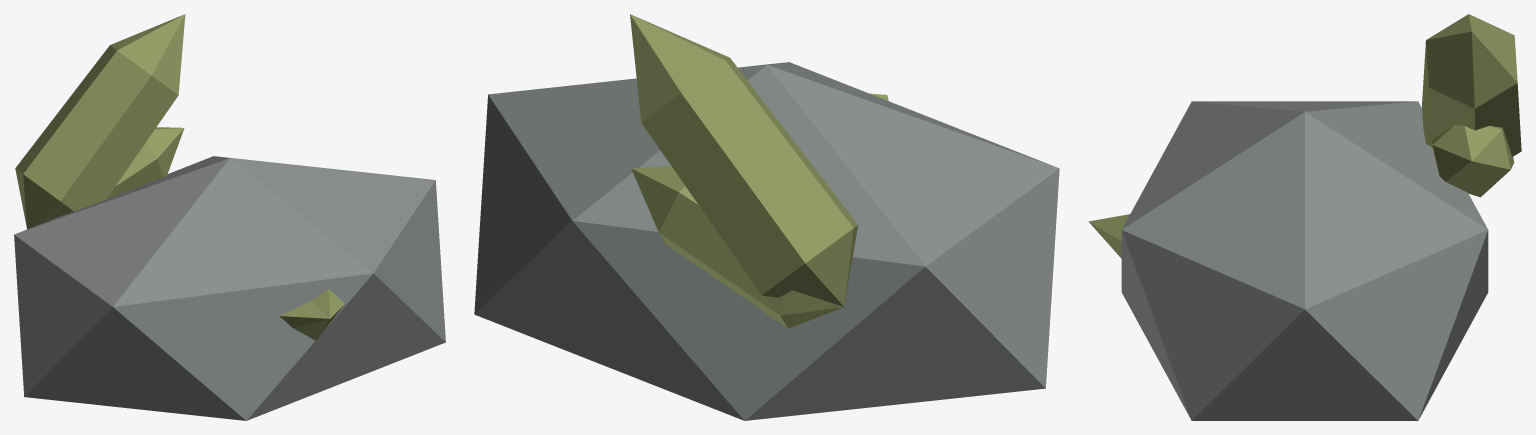
File: v2_uranium_rock.glb
3 renders of one model, left to right at view 1: azimuth 30°, elevation 25°; view 2: azimuth 150°, elevation 25°; view 3: azimuth 270°, elevation 25°, orthographic. The views are drawn at different scales.
Visible parts, largest first — view 1: Icosphere; view 2: Icosphere; view 3: Icosphere.
Part boxes in pixels (x1,y1,x2,y2): Icosphere: (14, 14, 445, 420); Icosphere: (474, 14, 1059, 420); Icosphere: (1088, 14, 1521, 420).
Bounding box in the file's own units: 1.88 × 1.5 × 1.5.
